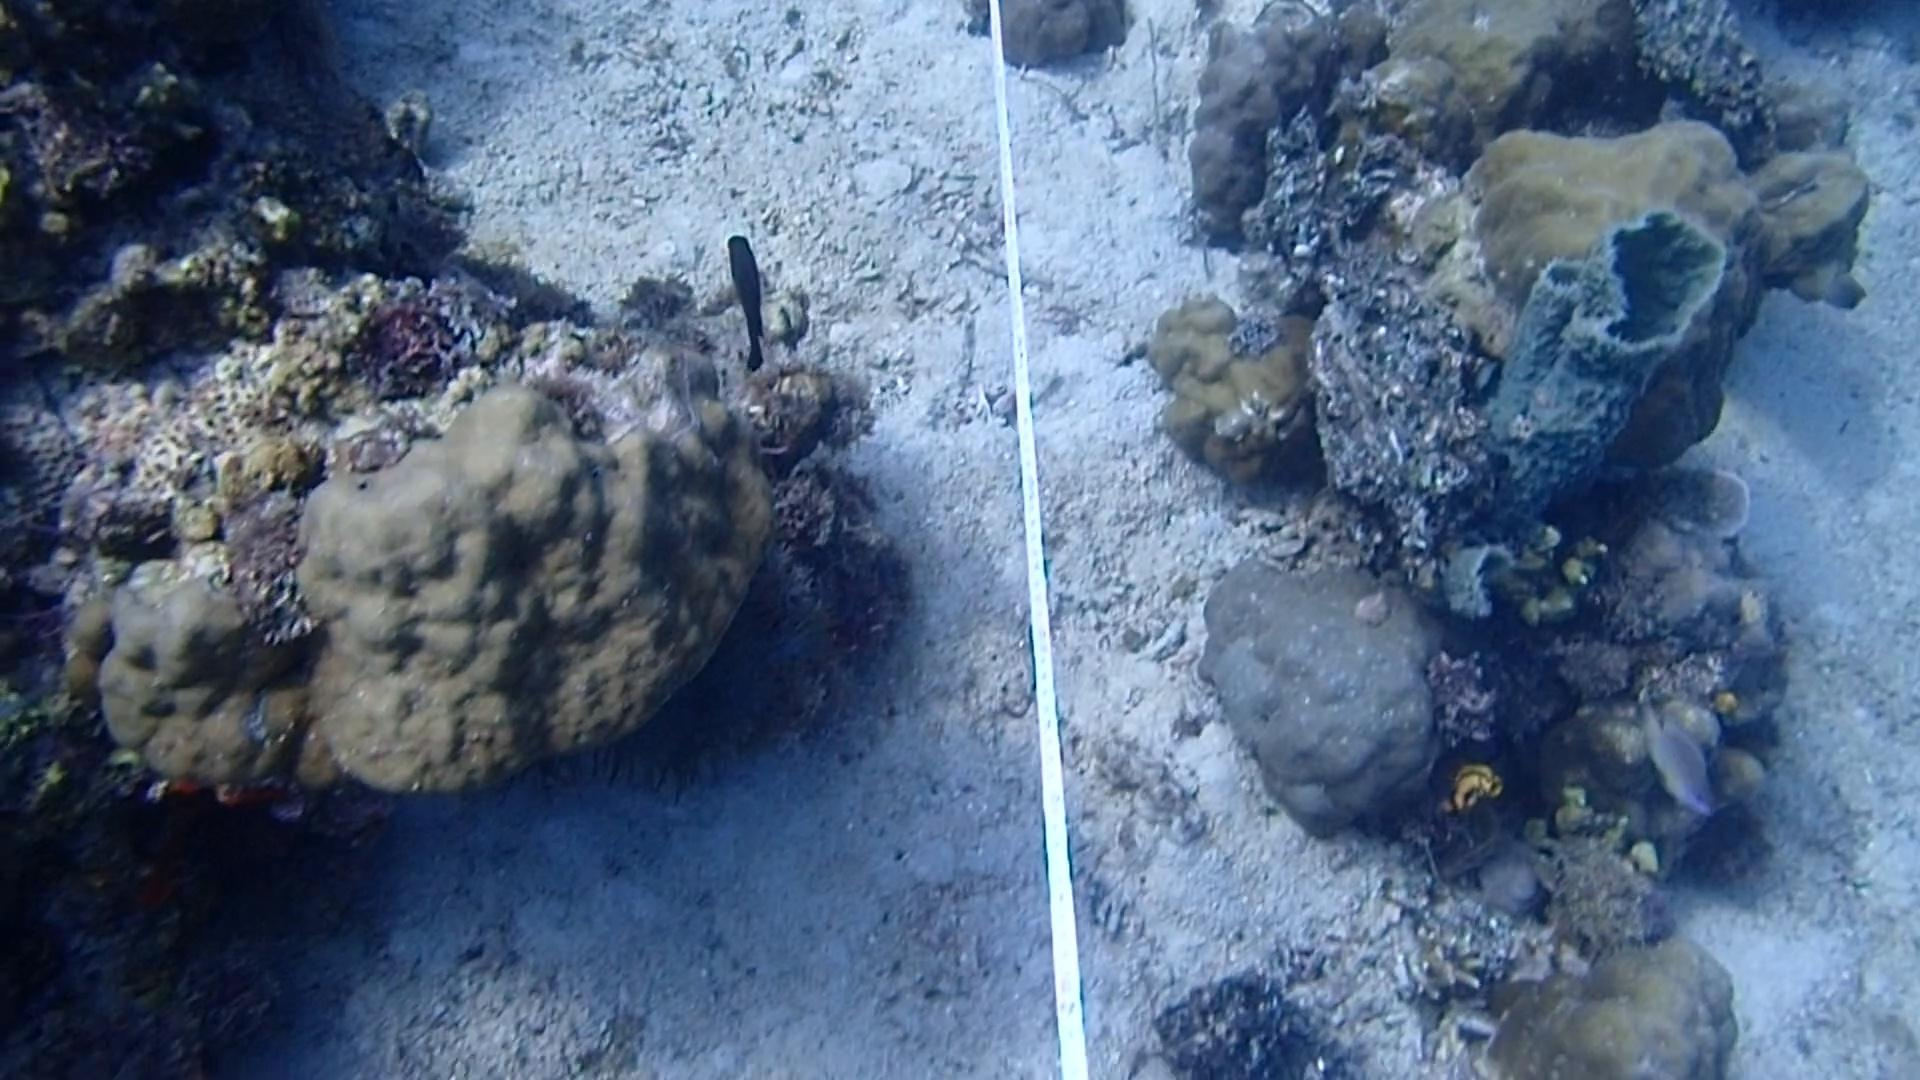Blue Nose Fish: (1638, 698, 1727, 824)
Dark Fish: (717, 227, 790, 380)
